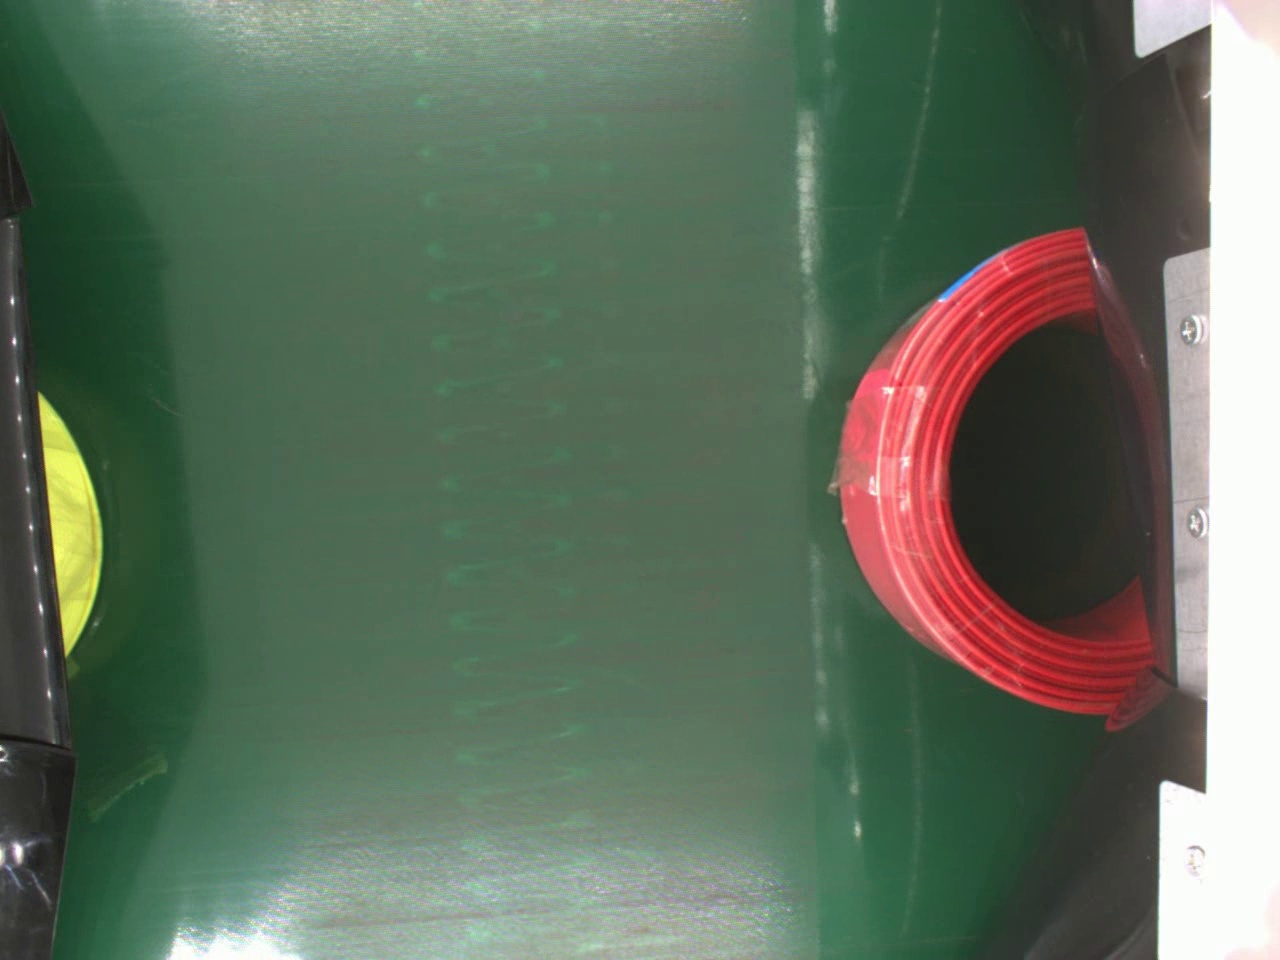red: (831, 229, 1167, 716)
